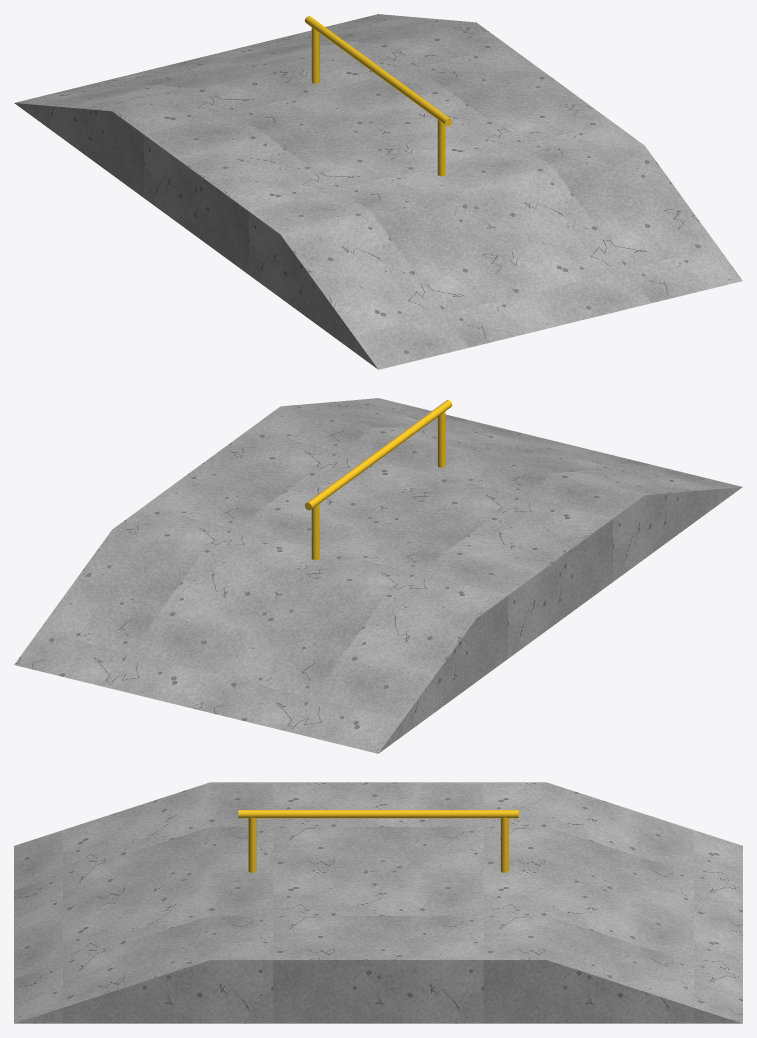
The model's file is funbox.glb.
3 renders of one model, top to bottom at view 1: azimuth 30°, elevation 25°; view 2: azimuth 150°, elevation 25°; view 3: azimuth 270°, elevation 25°, orthographic.
Visible parts, largest first — view 1: Funbox; view 2: Funbox; view 3: Funbox.
Boxes of the visible parts, x1,y1,x2,y2 form: Funbox: (14, 14, 742, 369); Funbox: (14, 398, 742, 753); Funbox: (14, 782, 742, 1023).
Bounding box in the file's own units: 3 × 0.98 × 5.2.
2 materials, 1 textured.
